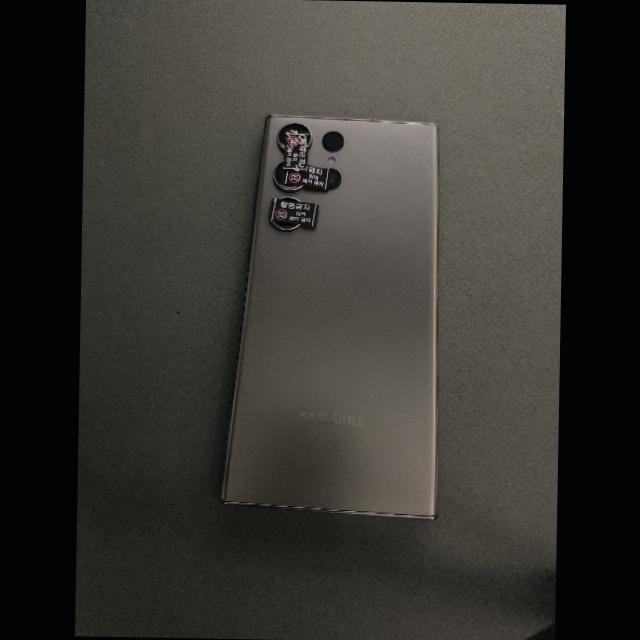lens: (279, 124, 314, 149), (273, 161, 302, 189), (323, 132, 345, 152), (272, 223, 299, 230)
phone: (220, 115, 438, 519)
sticker: (270, 197, 319, 229), (280, 127, 309, 171), (281, 165, 330, 191)
